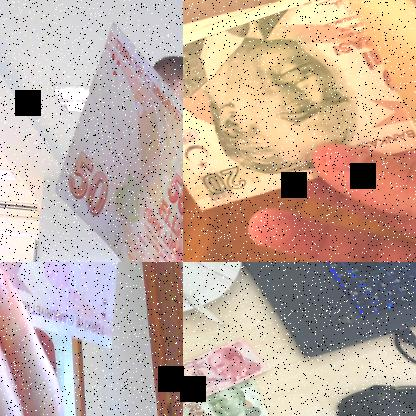5 TL: (55, 22, 182, 261)
